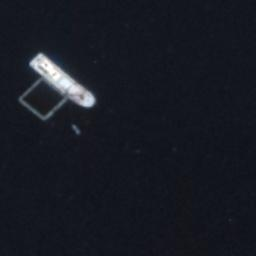square_solid: (15, 73, 74, 123)
